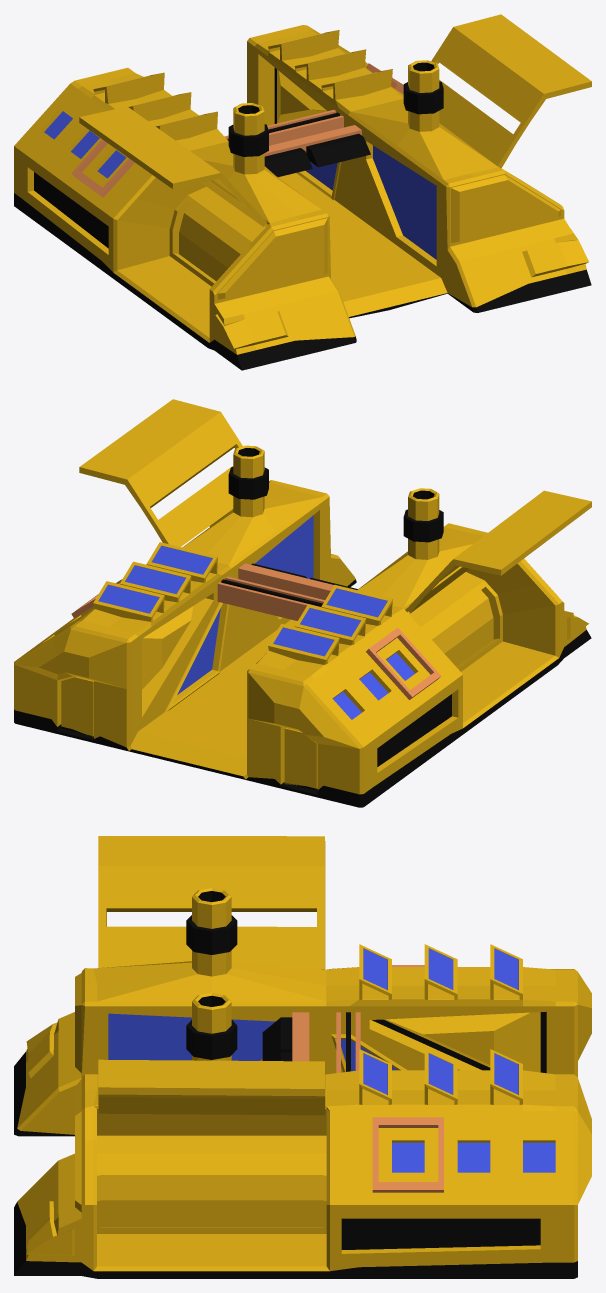
Rendered from Ammo Factory v 1.2.fbx.
3 views of the same model, one above another, from view 1: azimuth 30°, elevation 25°; view 2: azimuth 150°, elevation 25°; view 3: azimuth 270°, elevation 25° (orthographic). The views are drawn at different scales.
Parts seen in each view (by area): view 1: ammo factoryd1; view 2: ammo factoryd1; view 3: ammo factoryd1.
Boxes of the visible parts, bbox=[...] form: ammo factoryd1: bbox=[14, 14, 591, 370]; ammo factoryd1: bbox=[14, 399, 591, 807]; ammo factoryd1: bbox=[14, 836, 591, 1278].
Bounding box in the file's own units: 6629 × 2766 × 6399.
